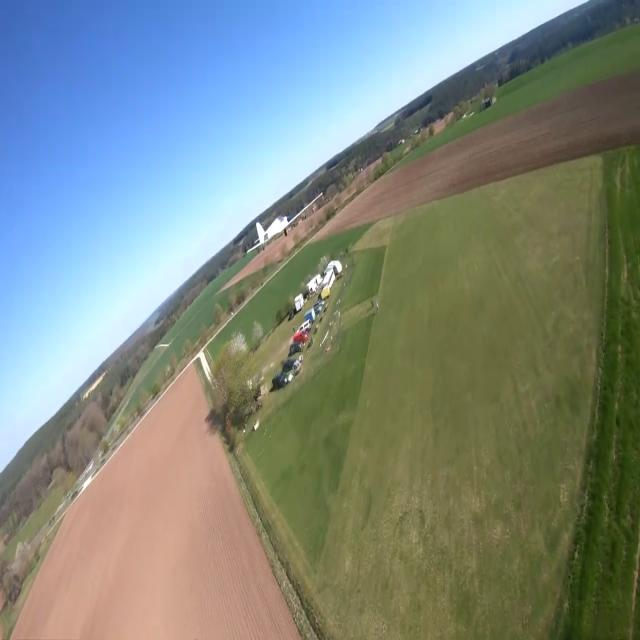iha: (277, 190, 290, 252)
